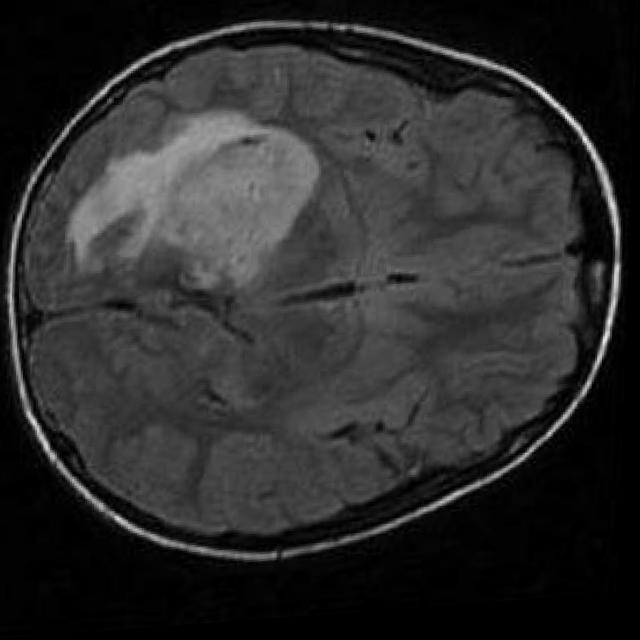Tumor: (62, 106, 320, 299)
